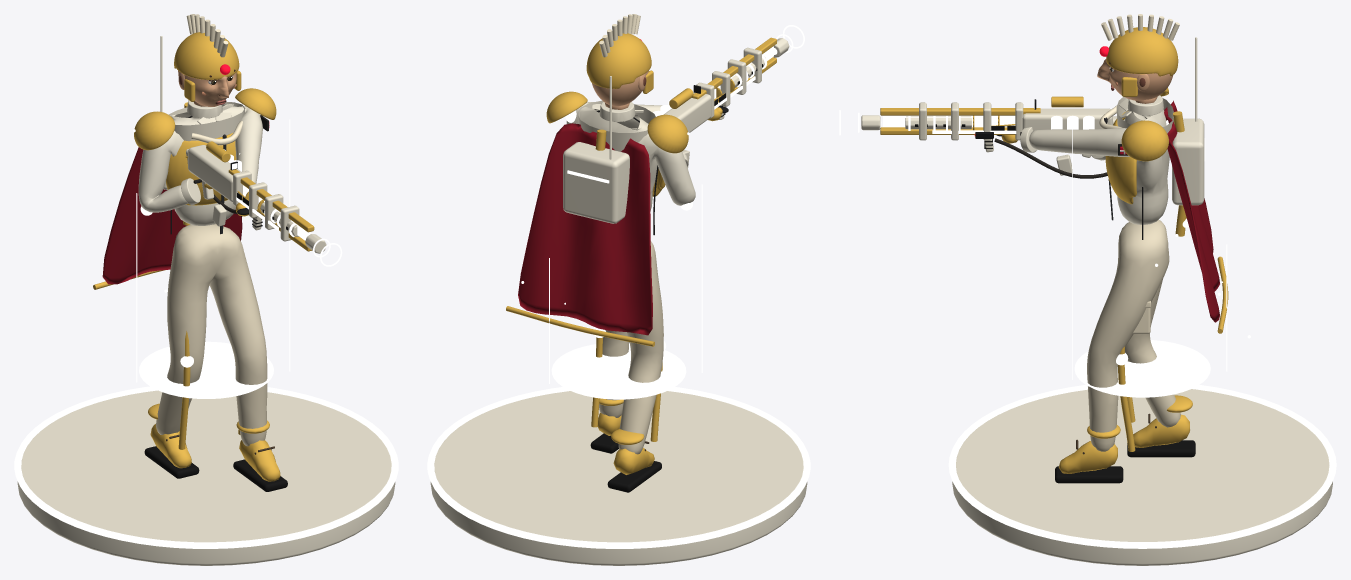
The model's file is skinne_guld.glb.
3 views of the same model, side by side, from view 1: azimuth 30°, elevation 25°; view 2: azimuth 150°, elevation 25°; view 3: azimuth 270°, elevation 25° (orthographic).
Parts seen in each view (by area): view 1: fod_net, menneske_net, op2.001_net, op4.002_net, hoved_net, vaaben_net, op4_net, op4.001_net, op3_net; view 2: fod_net, op2.001_net, menneske_net, op4.002_net, op3.001_net, hoved_net, vaaben_net, op4_net, op4.001_net; view 3: fod_net, menneske_net, op2.001_net, vaaben_net, hoved_net, op4.002_net, op3.001_net, op4_net, op3_net, op1_net.
Part boxes in pixels (x1=…): fod_net: x1=14, y1=386, x2=398, y2=565; menneske_net: x1=138, y1=100, x2=287, y2=491; op2.001_net: x1=93, y1=88, x2=276, y2=289; op4.002_net: x1=133, y1=119, x2=290, y2=398; hoved_net: x1=174, y1=14, x2=241, y2=106; vaaben_net: x1=186, y1=141, x2=314, y2=251; op4_net: x1=140, y1=102, x2=240, y2=449; op4.001_net: x1=236, y1=197, x2=342, y2=266; op3_net: x1=260, y1=202, x2=326, y2=253; fod_net: x1=427, y1=387, x2=810, y2=565; op2.001_net: x1=506, y1=91, x2=688, y2=346; menneske_net: x1=566, y1=100, x2=728, y2=492; op4.002_net: x1=521, y1=132, x2=702, y2=399; op3.001_net: x1=563, y1=76, x2=629, y2=223; hoved_net: x1=586, y1=14, x2=653, y2=106; vaaben_net: x1=653, y1=37, x2=776, y2=132; op4_net: x1=565, y1=110, x2=692, y2=441; op4.001_net: x1=714, y1=25, x2=804, y2=109; fod_net: x1=948, y1=385, x2=1336, y2=565; menneske_net: x1=996, y1=95, x2=1195, y2=483; op2.001_net: x1=1099, y1=87, x2=1228, y2=333; vaaben_net: x1=880, y1=96, x2=1150, y2=157; hoved_net: x1=1097, y1=14, x2=1179, y2=100; op4.002_net: x1=1072, y1=125, x2=1250, y2=397; op3.001_net: x1=1172, y1=37, x2=1205, y2=205; op4_net: x1=1116, y1=111, x2=1188, y2=451; op3_net: x1=861, y1=115, x2=971, y2=130; op1_net: x1=991, y1=126, x2=1107, y2=178.
Bounding box in the file's own units: 1.94 × 2.6 × 2.48.
